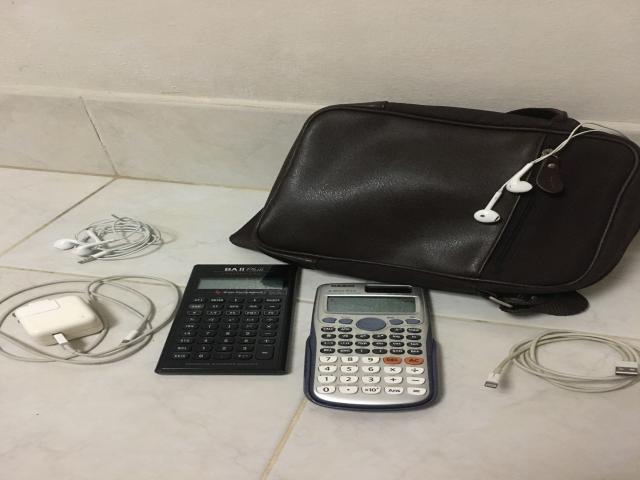wire: (0, 275, 182, 365), (485, 330, 640, 393), (473, 150, 557, 223), (55, 215, 162, 263)
